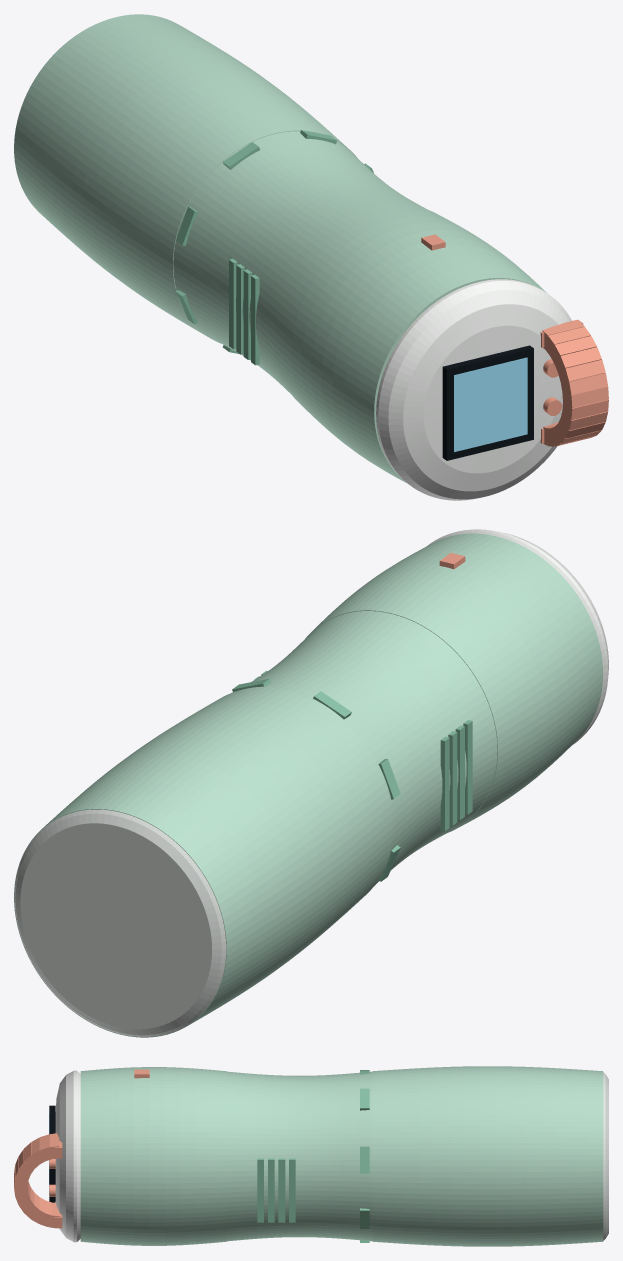
The model's file is thermox_bottle_pebble_onepcb.obj.
The picture shows the model from 3 angles, top to bottom: view 1: azimuth 30°, elevation 25°; view 2: azimuth 150°, elevation 25°; view 3: azimuth 270°, elevation 25°; orthographic projection. The views are drawn at different scales.
Parts seen in each view (by area): view 1: body_lower, body_upper, body_waist, lid, oled_screen, oled_1_5in, exhaust_slot_rear_1, exhaust_slot_rear_2, exhaust_slot_rear_3, exhaust_slot_rear_4, loop_06, loop_04 (+1 smaller); view 2: body_lower, base_pad, body_upper, body_waist, lid, exhaust_slot_rear_1, exhaust_slot_rear_2, exhaust_slot_rear_3, exhaust_slot_rear_4; view 3: body_lower, body_upper, body_waist, lid, base_pad, exhaust_slot_front_2, exhaust_slot_front_1, exhaust_slot_front_3, exhaust_slot_front_4, oled_1_5in, intake_slot_1.
Part boxes in pixels (bbox=[...]): body_lower: bbox=[14, 14, 356, 343]; body_upper: bbox=[273, 204, 546, 482]; body_waist: bbox=[173, 131, 425, 393]; lid: bbox=[376, 279, 571, 500]; oled_screen: bbox=[454, 357, 527, 452]; oled_1_5in: bbox=[442, 345, 533, 460]; exhaust_slot_rear_1: bbox=[229, 259, 237, 349]; exhaust_slot_rear_2: bbox=[236, 264, 244, 354]; exhaust_slot_rear_3: bbox=[243, 269, 252, 359]; exhaust_slot_rear_4: bbox=[251, 274, 259, 365]; loop_06: bbox=[560, 373, 607, 394]; loop_04: bbox=[555, 347, 601, 374]; body_lower: bbox=[14, 687, 392, 1037]; base_pad: bbox=[14, 809, 226, 1036]; body_upper: bbox=[305, 533, 603, 832]; body_waist: bbox=[244, 611, 497, 885]; lid: bbox=[426, 529, 608, 744]; exhaust_slot_rear_1: bbox=[440, 736, 449, 831]; exhaust_slot_rear_2: bbox=[448, 731, 457, 825]; exhaust_slot_rear_3: bbox=[455, 725, 464, 820]; exhaust_slot_rear_4: bbox=[463, 720, 472, 814]; body_lower: bbox=[372, 1066, 603, 1246]; body_upper: bbox=[80, 1067, 226, 1245]; body_waist: bbox=[226, 1071, 372, 1241]; lid: bbox=[55, 1070, 80, 1242]; base_pad: bbox=[603, 1072, 608, 1240]; exhaust_slot_front_2: bbox=[278, 1158, 285, 1222]; exhaust_slot_front_1: bbox=[289, 1158, 295, 1222]; exhaust_slot_front_3: bbox=[268, 1158, 274, 1222]; exhaust_slot_front_4: bbox=[257, 1158, 263, 1222]; oled_1_5in: bbox=[49, 1105, 55, 1202]; intake_slot_1: bbox=[360, 1146, 369, 1173].
Bounding box in the file's own units: 93.97 × 97 × 310.
